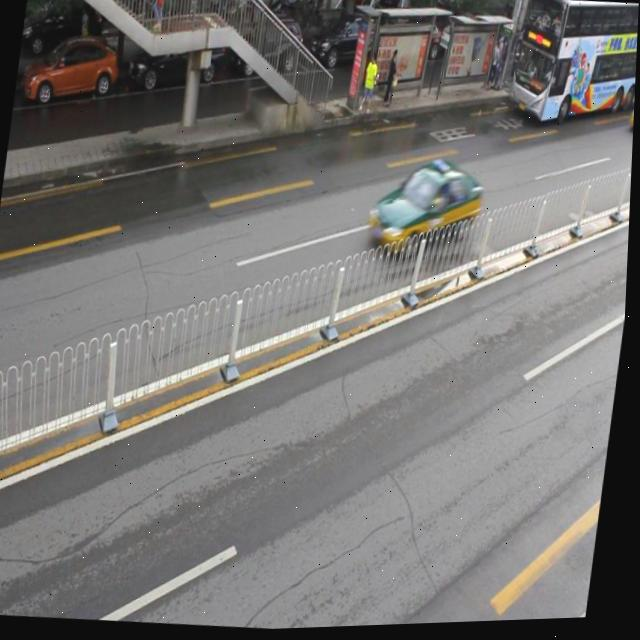car: (367, 155, 488, 266), (22, 32, 122, 112), (128, 21, 227, 97), (234, 13, 306, 86), (307, 13, 385, 77), (627, 87, 636, 143)
van: (508, 0, 639, 137)
